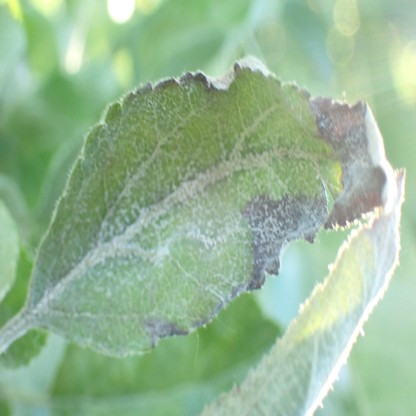powdery_mildew: (25, 62, 389, 355), (206, 164, 405, 416)
